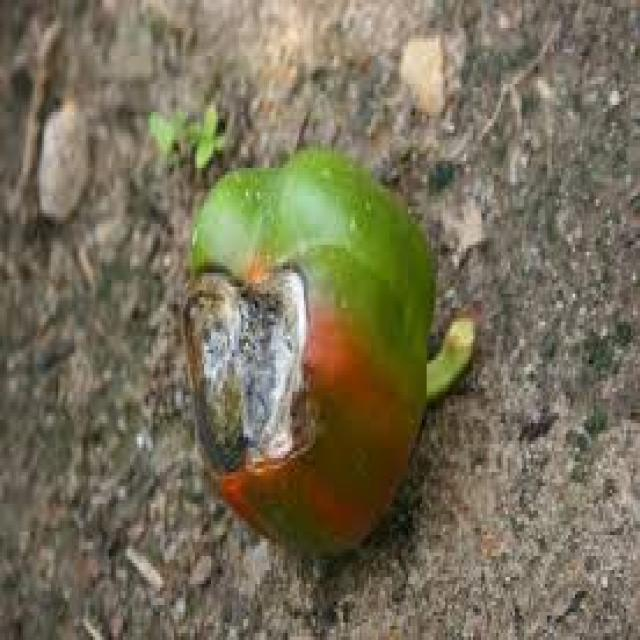Wet Waste: (172, 158, 437, 578)
